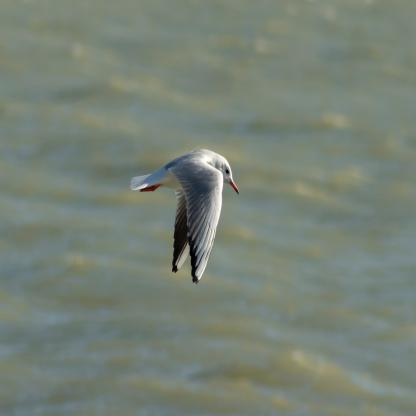bird: (131, 149, 240, 284)
